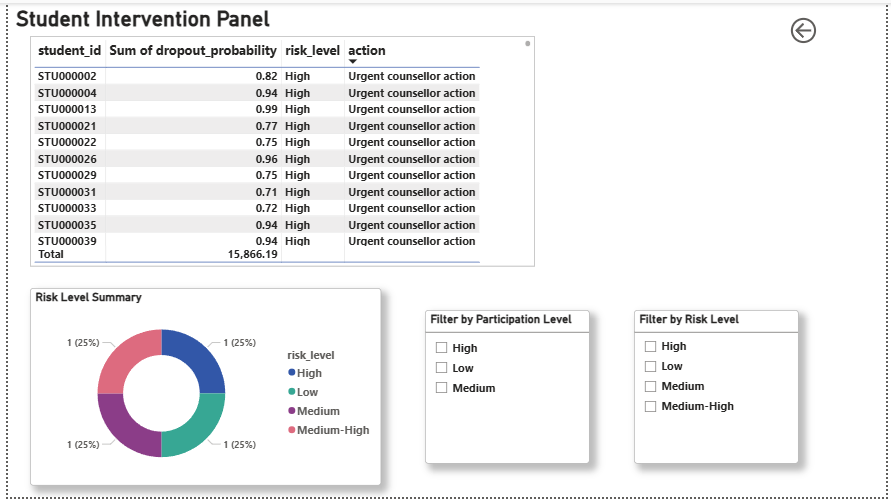

What the dashboard file says about the page in this screenshot:
{"tool":"powerbi","page":{"name":"Student Intervention  Panel","canvas":[1280,720],"ordinal":1},"visuals":[{"type":"tableEx","fields":{"Values":["dashboard_data.student_id","Sum(dashboard_data.dropout_probability)","dashboard_data.risk_level","dashboard_data.action"]},"box":[32,48,736,336],"z":0},{"type":"donutChart","title":"Risk Level Summary","fields":{"Category":["risk_summary.risk_level"],"Y":["CountNonNull(risk_summary.count)"]},"box":[32,416,512,288],"z":1000},{"type":"slicer","title":"Filter by Risk Level","fields":{"Values":["risk_summary.risk_level"]},"box":[912,448,240,224],"z":2000},{"type":"slicer","title":"Filter by Participation Level","fields":{"Values":["dashboard_data.class_participation"]},"box":[608,448,240,224],"z":3000},{"type":"actionButton","box":[1136,16,48,48],"z":4000},{"type":"shape","title":"Student Intervention Panel","box":[12,5,623,48],"z":5000}]}

Visuals, with their boxes in screenshot pixels (x1, y1, x2, y2), scaled from the page's 1280x720 canvas onto the 891x503 screenshot:
tableEx - dashboard_data.student_id x Sum(dashboard_data.dropout_probability): {"x1": 22, "y1": 34, "x2": 535, "y2": 268}
"Risk Level Summary" donutChart: {"x1": 22, "y1": 291, "x2": 379, "y2": 492}
"Filter by Risk Level" slicer: {"x1": 635, "y1": 313, "x2": 802, "y2": 469}
"Filter by Participation Level" slicer: {"x1": 423, "y1": 313, "x2": 590, "y2": 469}
actionButton: {"x1": 791, "y1": 11, "x2": 824, "y2": 45}
"Student Intervention Panel" shape: {"x1": 8, "y1": 3, "x2": 442, "y2": 37}
